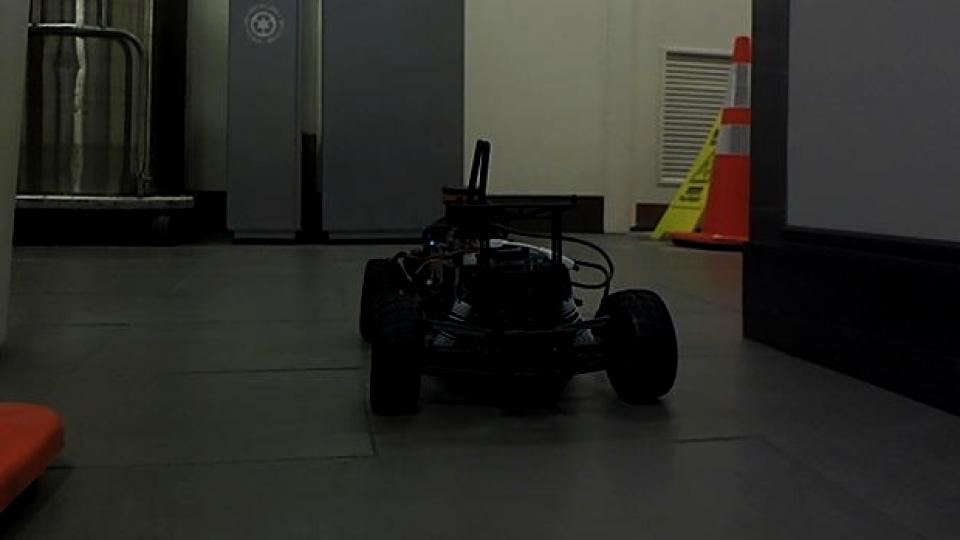car: (354, 136, 680, 418)
